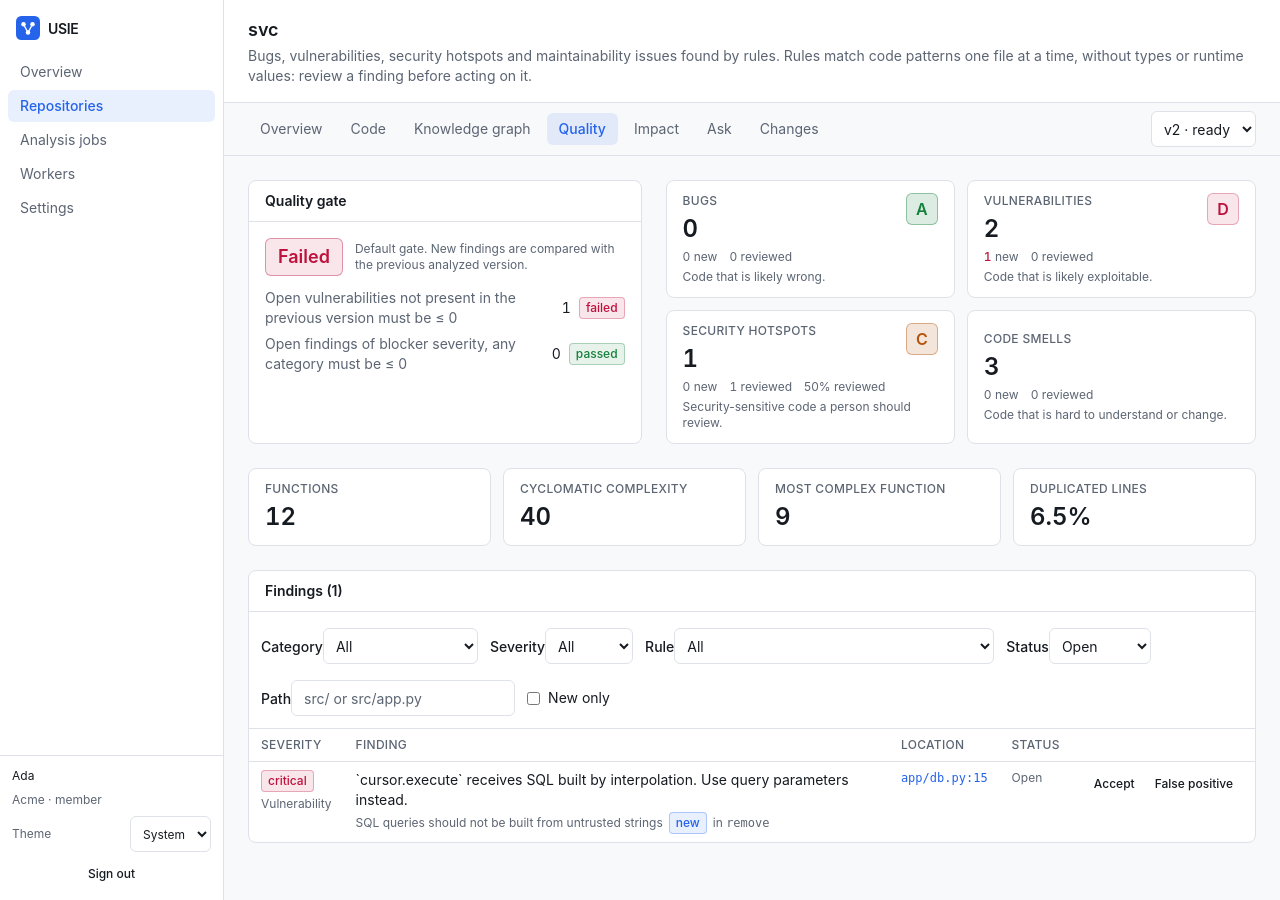
quality page › shows the gate, grades and findings, and requires a reason for a false positive
The width and height of the screenshot is (1280, 900).
Later steps or results of the test are not shown.
Expected: the text "Failed" is shown, [265, 238, 343, 276]
Expected: the text "Open vulnerabilities not present in the previous version" is shown, [265, 289, 516, 326]
Expanding shows what the rule matches.
Click the button "`cursor.execute` receives SQL built by interpolation. Use query parameters instead.": click(616, 790) [356, 770, 877, 810]
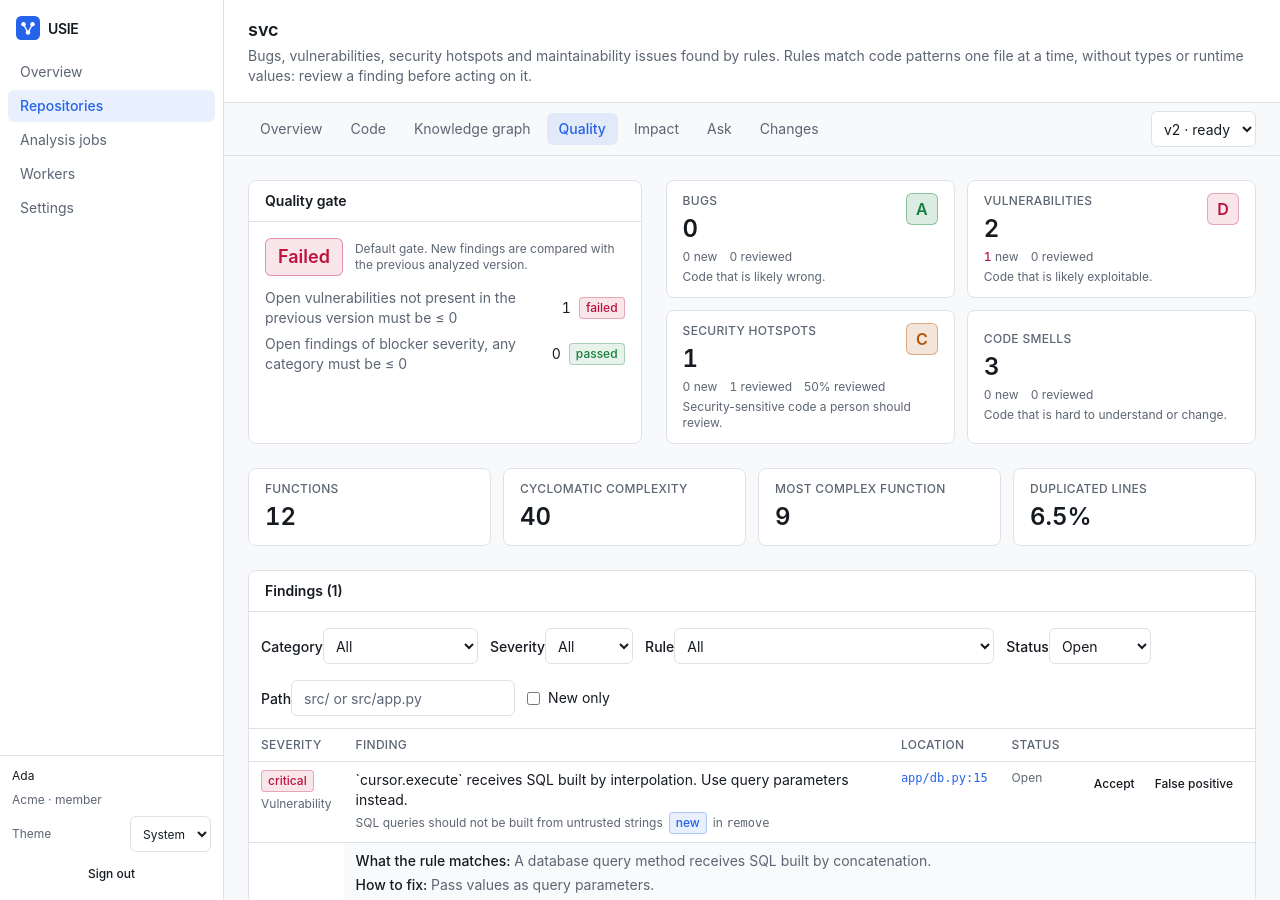
Expected: the text "A database query method receives SQL built by concatenation." is shown, [514, 852, 931, 869]
